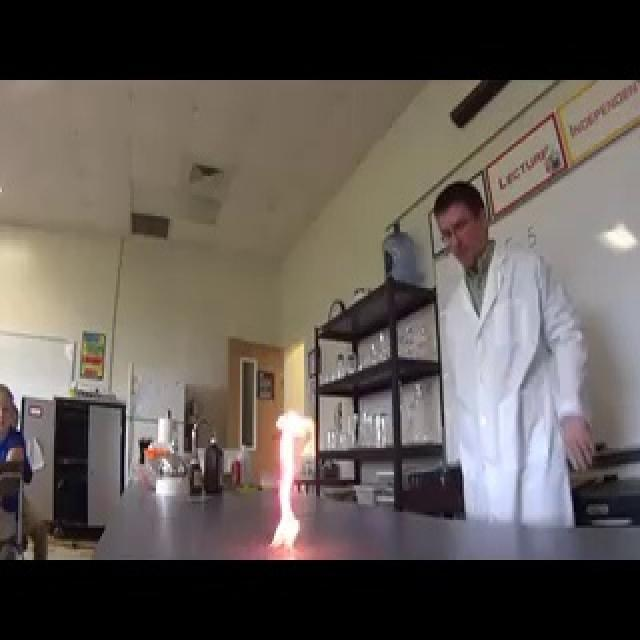Fire: (267, 404, 323, 552)
